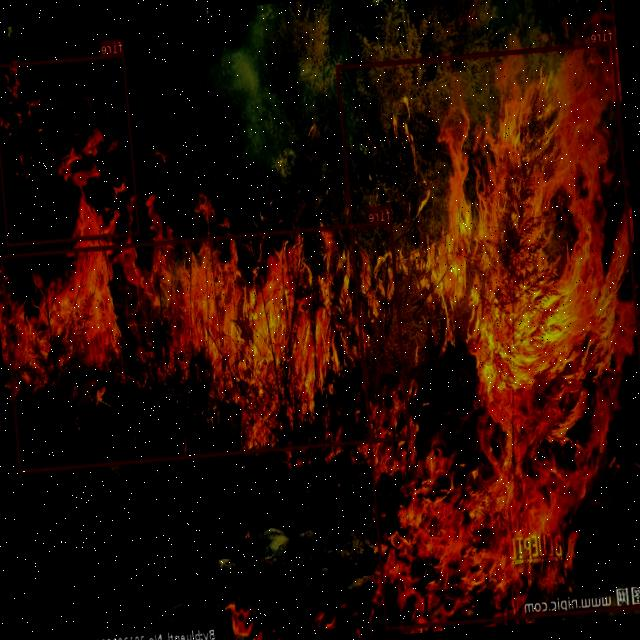fire: (336, 40, 640, 630), (0, 220, 411, 472), (0, 52, 139, 246)
